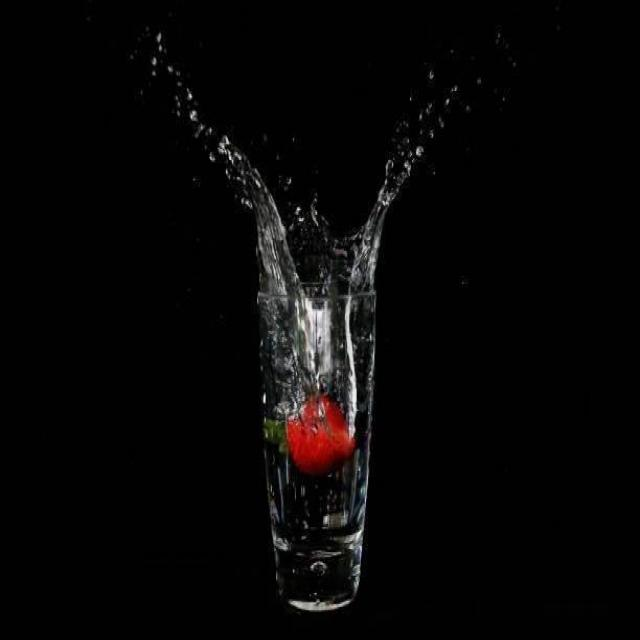glass-normal: (254, 278, 380, 615)
